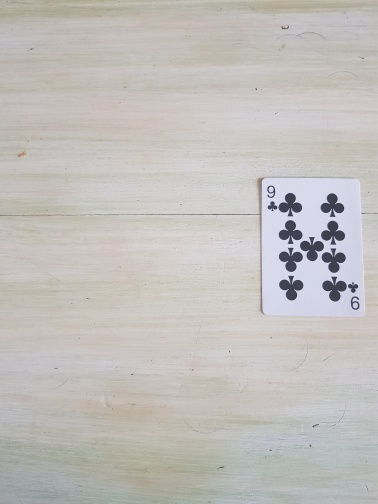nine: (259, 176, 365, 317)
